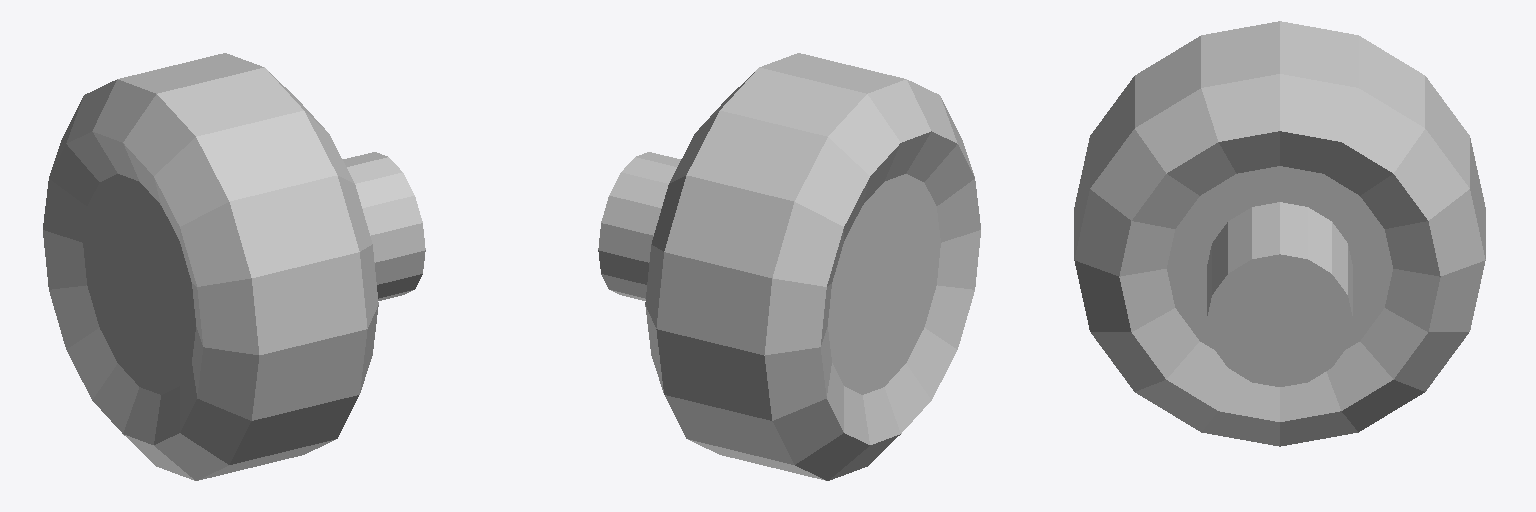
File: whel.obj
3 views of the same model, side by side, from view 1: azimuth 30°, elevation 25°; view 2: azimuth 150°, elevation 25°; view 3: azimuth 270°, elevation 25° (orthographic).
Parts seen in each view (by area): view 1: Cylinder.033_Cylinder.028; view 2: Cylinder.033_Cylinder.028; view 3: Cylinder.033_Cylinder.028.
Boxes of the visible parts, x1,y1,x2,y2 form: Cylinder.033_Cylinder.028: [43, 53, 425, 480]; Cylinder.033_Cylinder.028: [598, 53, 980, 480]; Cylinder.033_Cylinder.028: [1074, 21, 1485, 446].
Bounding box in the file's own units: 0.5513 × 0.7385 × 0.7385.